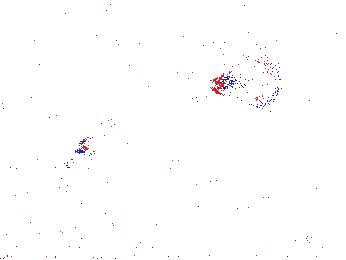flame jellyfish: (213, 51, 287, 111), (242, 160, 311, 206), (43, 140, 97, 196)
